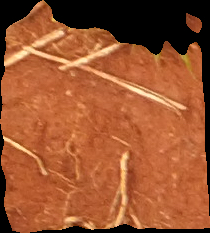soil: (1, 2, 210, 230)
